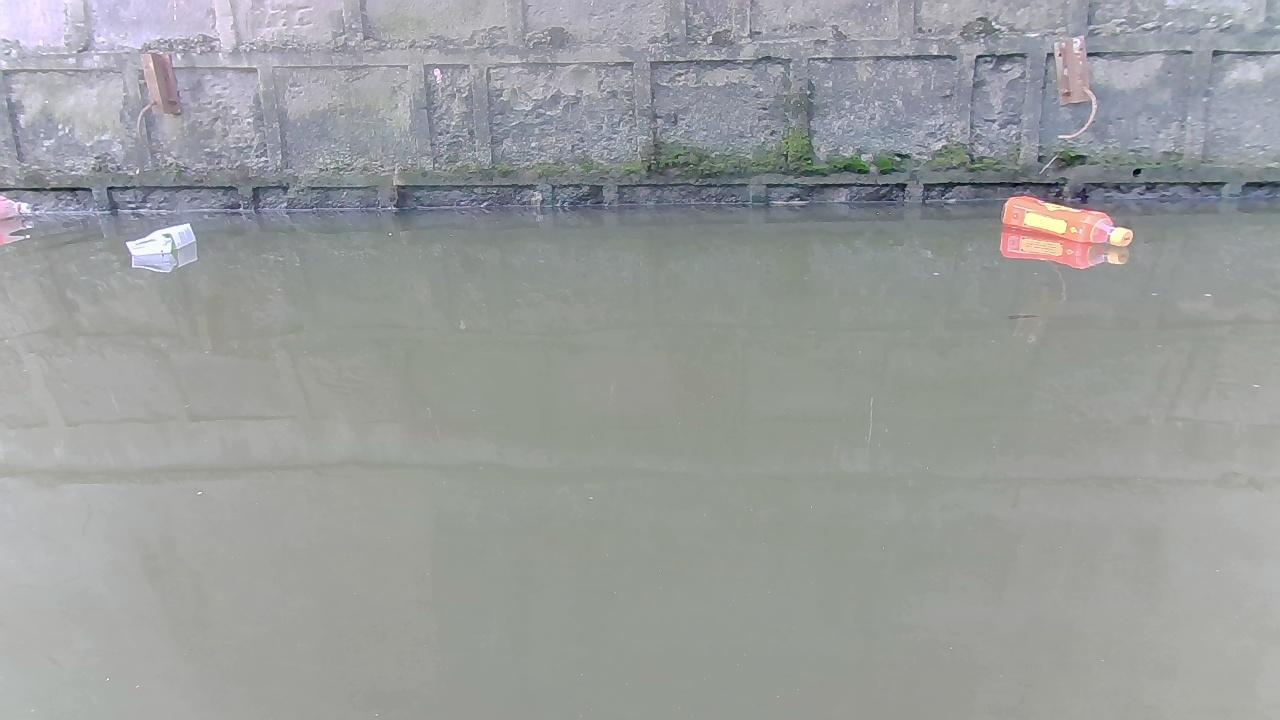bottle: (1001, 196, 1136, 256), (124, 222, 197, 255)
